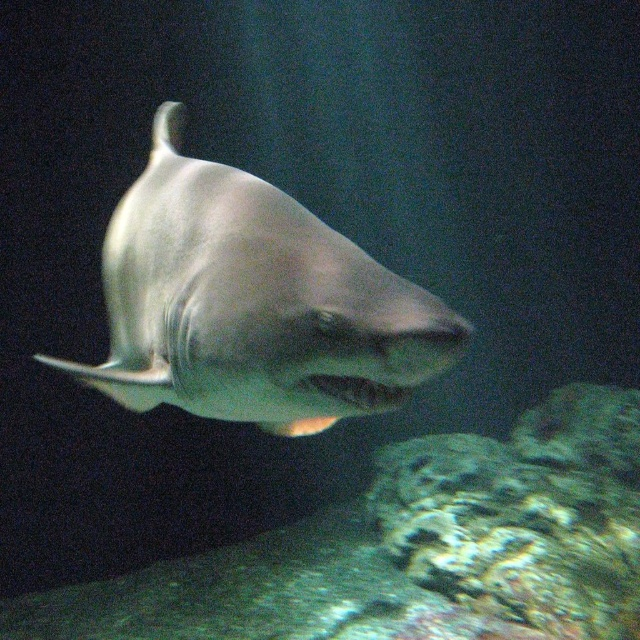Shark: (30, 100, 474, 438)
